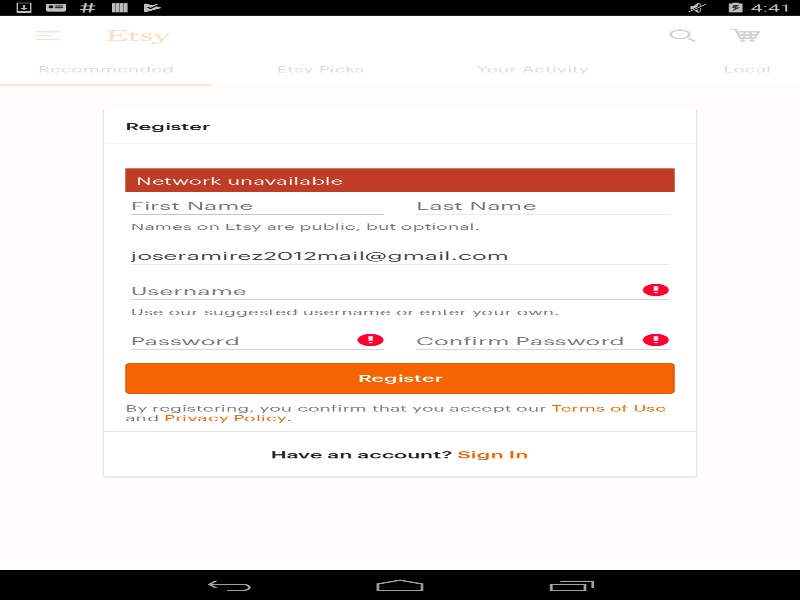Button: (125, 362, 674, 394)
Input: (125, 242, 674, 267), (125, 277, 674, 302), (125, 192, 389, 217), (410, 192, 674, 217), (125, 327, 389, 352), (410, 327, 674, 352)
